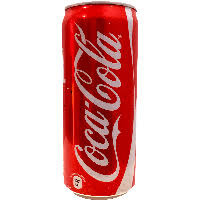coke: (61, 3, 137, 199)
